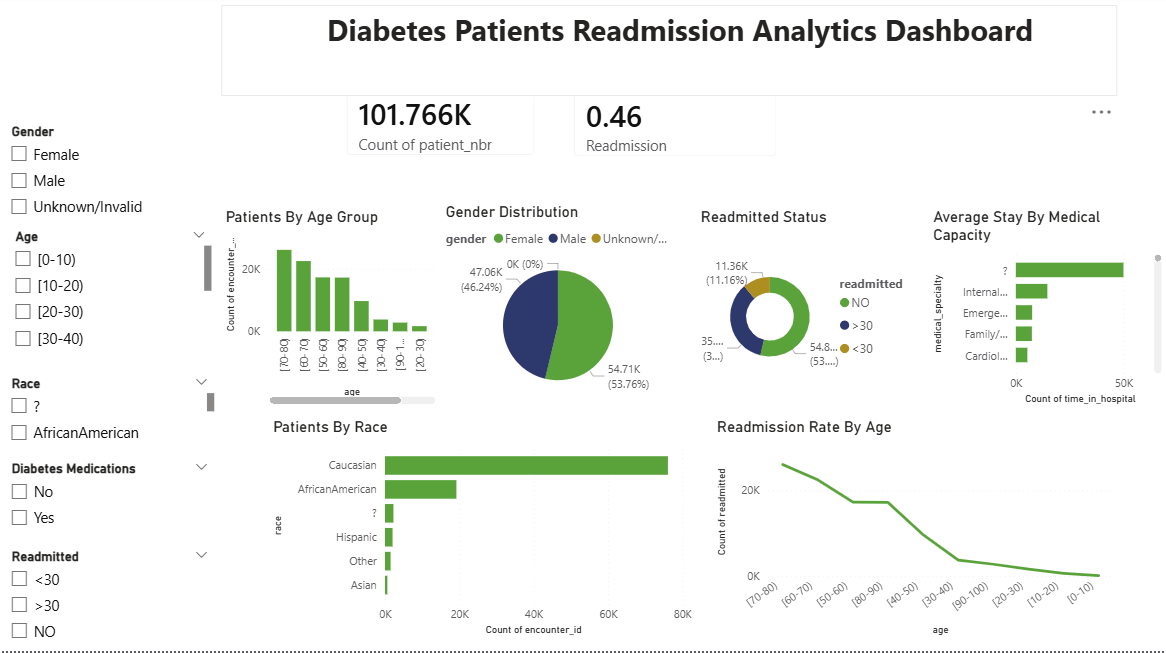

Layout of this report page (visuals, bound fields, positions):
{"tool":"powerbi","page":{"name":"Page 1","canvas":[1280,720],"ordinal":0},"visuals":[{"type":"clusteredColumnChart","title":"Patients By Age Group","fields":{"Category":["diabetic_data.age"],"Y":["CountNonNull(diabetic_data.encounter_id)"]},"box":[242.9,233.3,240.1,220.9],"z":0},{"type":"pieChart","title":"Gender Distribution","fields":{"Category":["diabetic_data.gender"],"Y":["Count(diabetic_data.encounter_id)"]},"box":[484.4,227.8,256.6,220.9],"z":1000},{"type":"donutChart","title":"Readmitted Status","fields":{"Category":["diabetic_data.readmitted"],"Y":["CountNonNull(diabetic_data.encounter_id)"]},"box":[764.3,233.3,240.1,220.9],"z":2000},{"type":"clusteredBarChart","title":"Average Stay By Medical Capacity","fields":{"Category":["diabetic_data.medical_specialty"],"Y":["CountNonNull(diabetic_data.time_in_hospital)"]},"box":[1019.6,233.3,260.7,220.9],"z":3000},{"type":"clusteredBarChart","title":"Patients By Race","fields":{"Category":["diabetic_data.race"],"Y":["CountNonNull(diabetic_data.encounter_id)"]},"box":[295,463.8,469.3,244.3],"z":4000},{"type":"lineChart","title":"Readmission Rate By Age","fields":{"Category":["diabetic_data.age"],"Y":["CountNonNull(diabetic_data.readmitted)"]},"box":[782.2,463.8,444.6,244.3],"z":5000},{"type":"slicer","fields":{"Values":["diabetic_data.gender"]},"box":[0,135.8,233.3,115.3],"z":6000},{"type":"slicer","fields":{"Values":["diabetic_data.age"]},"box":[4.1,251.1,233.3,149.6],"z":7000},{"type":"slicer","fields":{"Values":["diabetic_data.race"]},"box":[0,413,240.1,82.3],"z":8000},{"type":"slicer","fields":{"Values":["diabetic_data.diabetesMed"]},"box":[0,506.3,240.1,91.9],"z":9000},{"type":"slicer","fields":{"Values":["diabetic_data.readmitted"]},"box":[0,602.4,240.1,118],"z":10000},{"type":"cardVisual","fields":{"Data":["CountNonNull(diabetic_data.patient_nbr)"]},"box":[363.6,87.8,240.1,105.7],"z":11000},{"type":"cardVisual","fields":{"Data":["diabetic_data.Readmission"]},"box":[694.3,87.8,256.6,105.7],"z":12000},{"type":"textbox","box":[1020,0,260,221],"z":13000},{"type":"textbox","box":[242.9,11,983.9,100.2],"z":13001}]}

Visuals, with their boxes in screenshot pixels (x1, y1, x2, y2), scaled from the page's 1280x720 canvas onto the 1166x653 screenshot:
"Patients By Age Group" clusteredColumnChart: <region>221, 212, 440, 412</region>
"Gender Distribution" pieChart: <region>441, 207, 675, 407</region>
"Readmitted Status" donutChart: <region>696, 212, 915, 412</region>
"Average Stay By Medical Capacity" clusteredBarChart: <region>929, 212, 1165, 412</region>
"Patients By Race" clusteredBarChart: <region>269, 421, 696, 642</region>
"Readmission Rate By Age" lineChart: <region>713, 421, 1118, 642</region>
slicer - diabetic_data.gender: <region>0, 123, 213, 228</region>
slicer - diabetic_data.age: <region>4, 228, 216, 363</region>
slicer - diabetic_data.race: <region>0, 375, 219, 449</region>
slicer - diabetic_data.diabetesMed: <region>0, 459, 219, 543</region>
slicer - diabetic_data.readmitted: <region>0, 546, 219, 652</region>
cardVisual - CountNonNull(diabetic_data.patient_nbr): <region>331, 80, 550, 175</region>
cardVisual - diabetic_data.Readmission: <region>632, 80, 866, 175</region>
textbox: <region>929, 0, 1165, 200</region>
textbox: <region>221, 10, 1118, 101</region>
